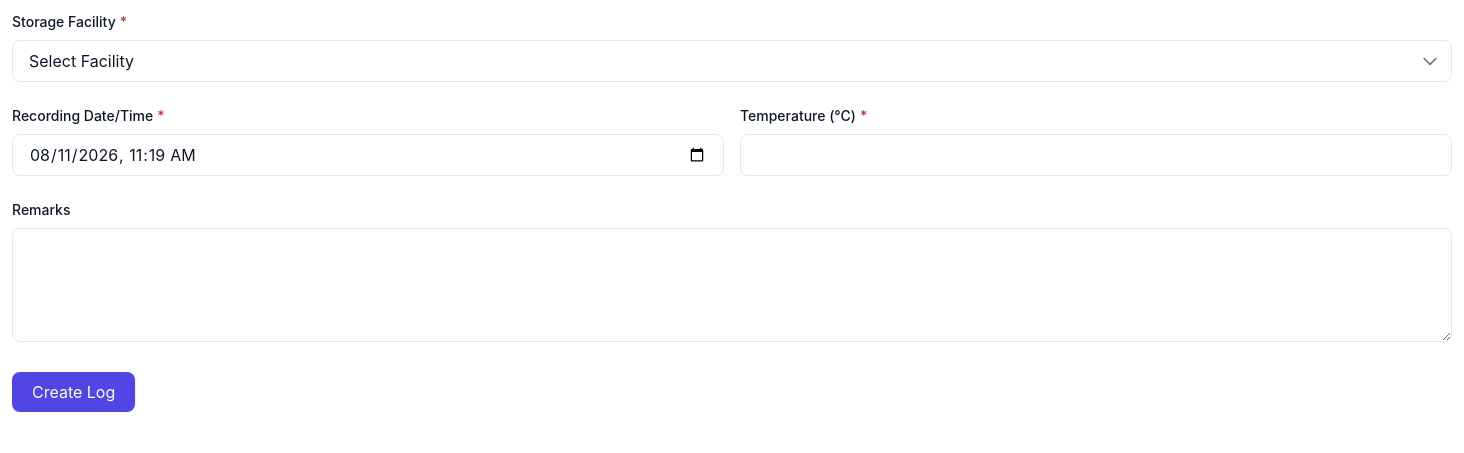
it: TemperatureLogForm › shows an error when temperature is below 2°C
Select "Main Cold Storage" in the dropdown named "storageFacilityId" at [732, 61], box 12,40 -> 1452,82
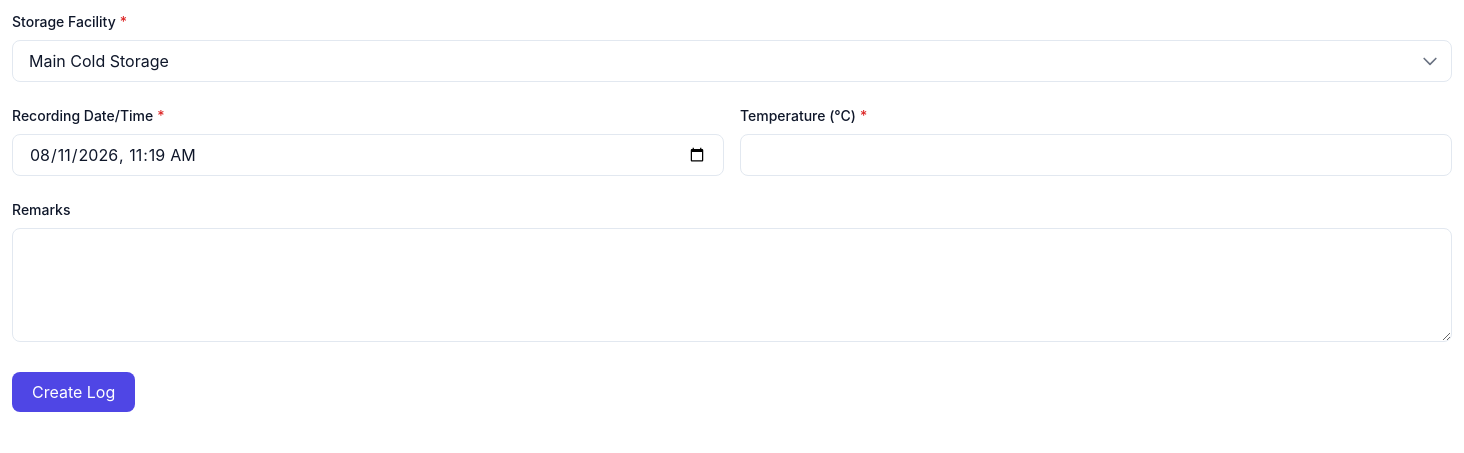
Type "1.9" into the number field named "temperatureReading" at [1096, 155], box 740,134 -> 1452,176
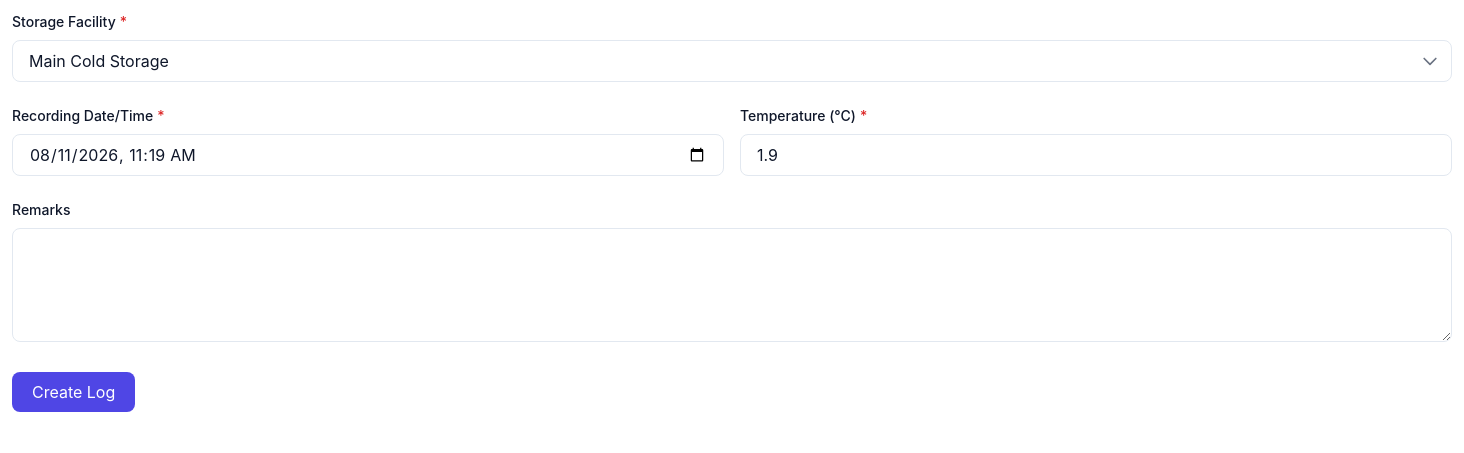
Click the button "Create Log" at [74, 392], box 12,372 -> 135,412
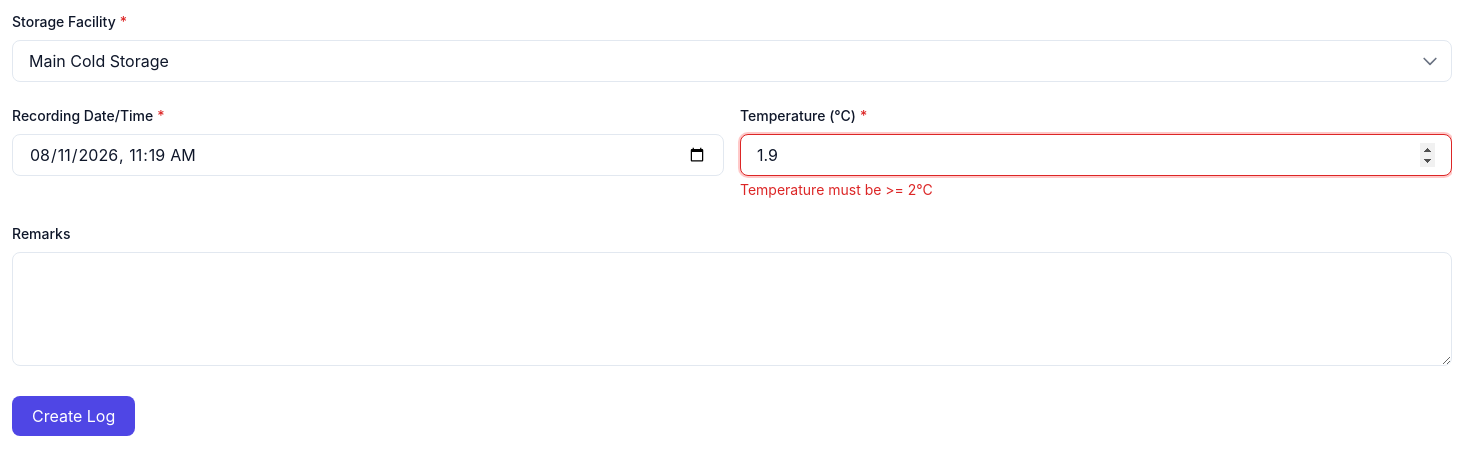
Now the text "Temperature must be >= 2°C" is shown, box 740,181 -> 933,198
